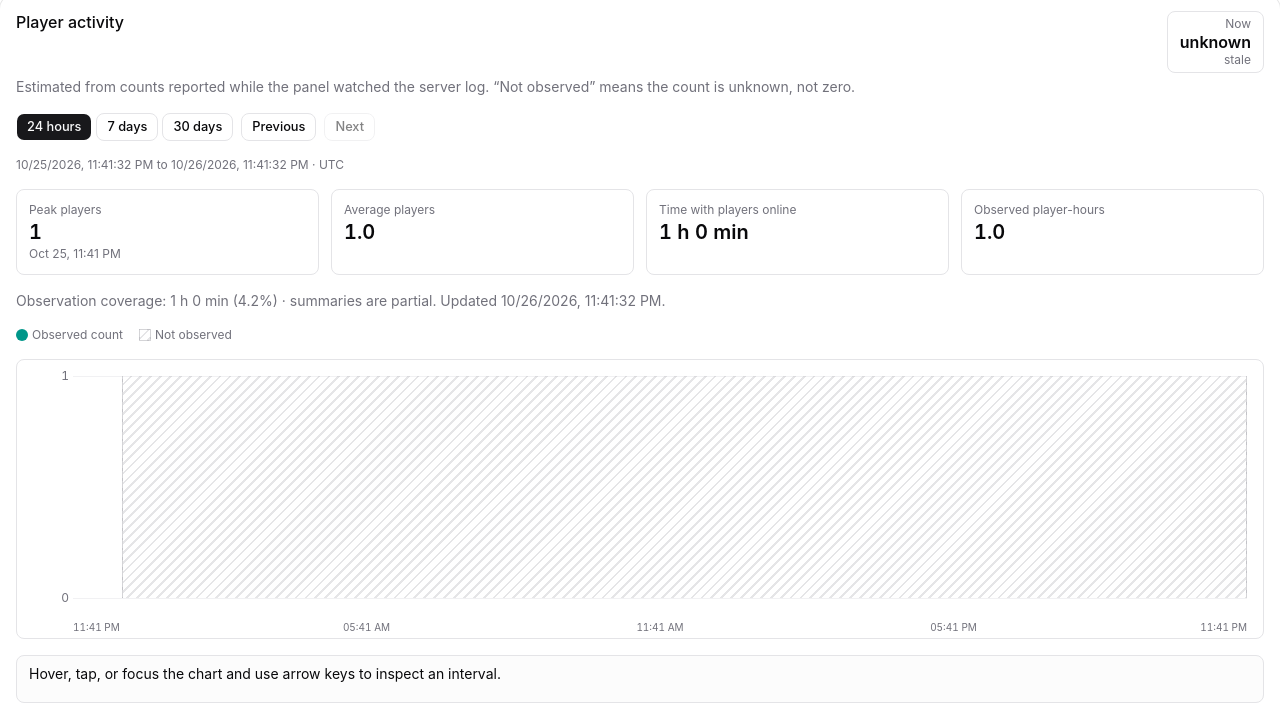
Scenario: exposes gaps and interval details to keyboard and table readers
Press ArrowRight in the button named "Player activity timeline", box [73,376,1247,598]
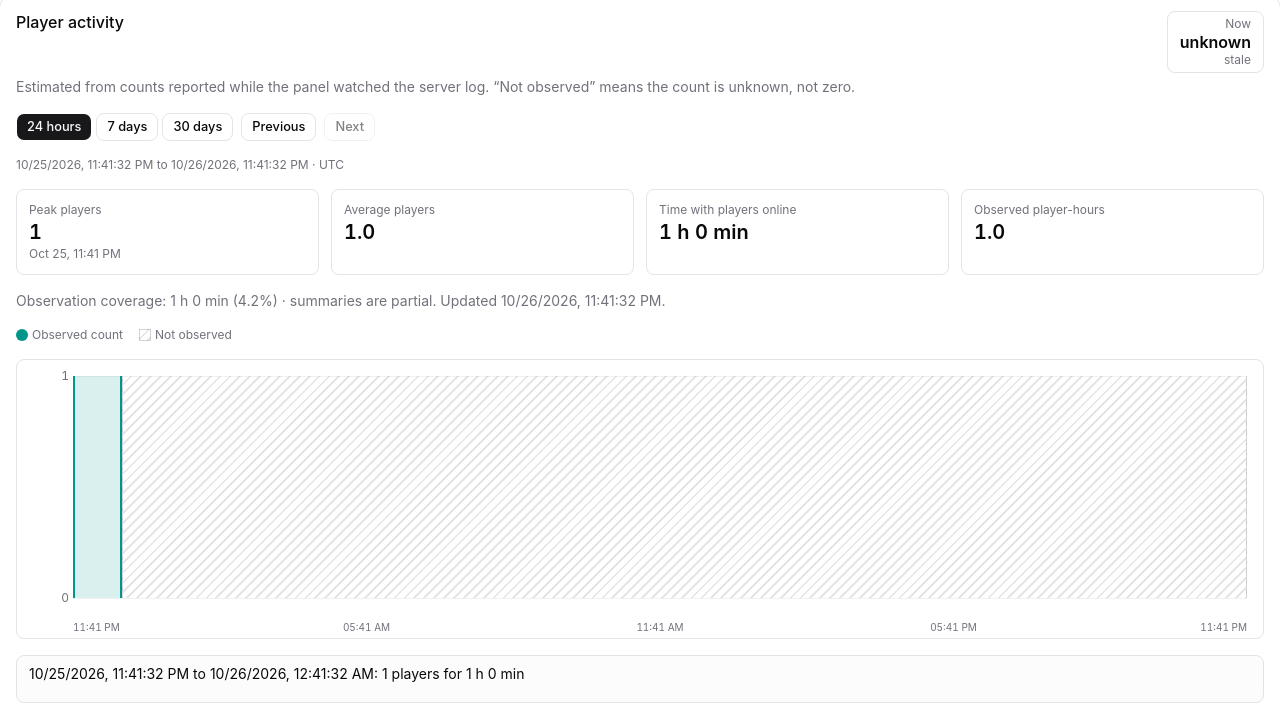
Expected: the text "1 players for 1 h 0 min" is shown, [29,665,524,682]
Press ArrowRight in the button named "Player activity timeline", box [73,376,1247,598]
(page scrolled)
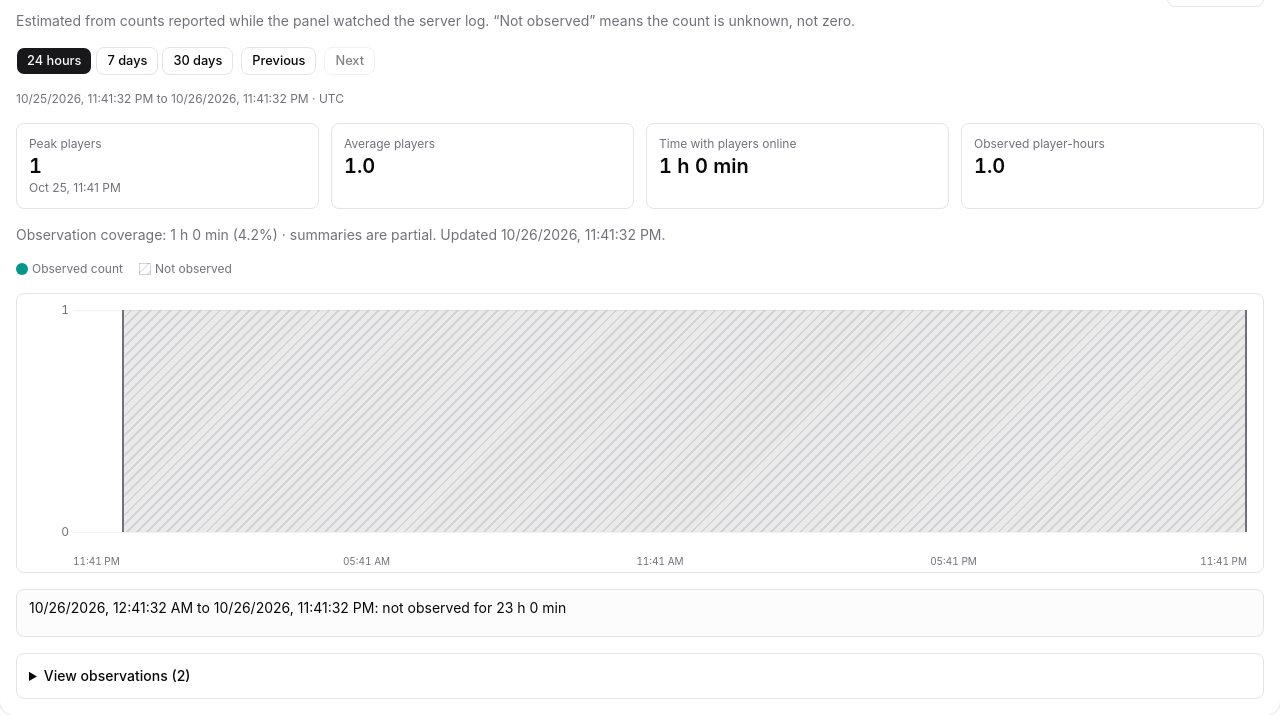
Expected: the text "not observed for" is shown, [29,599,566,616]
Click the heading "View observations (2)" at point(117, 676), box [44,667,190,684]
(page scrolled)
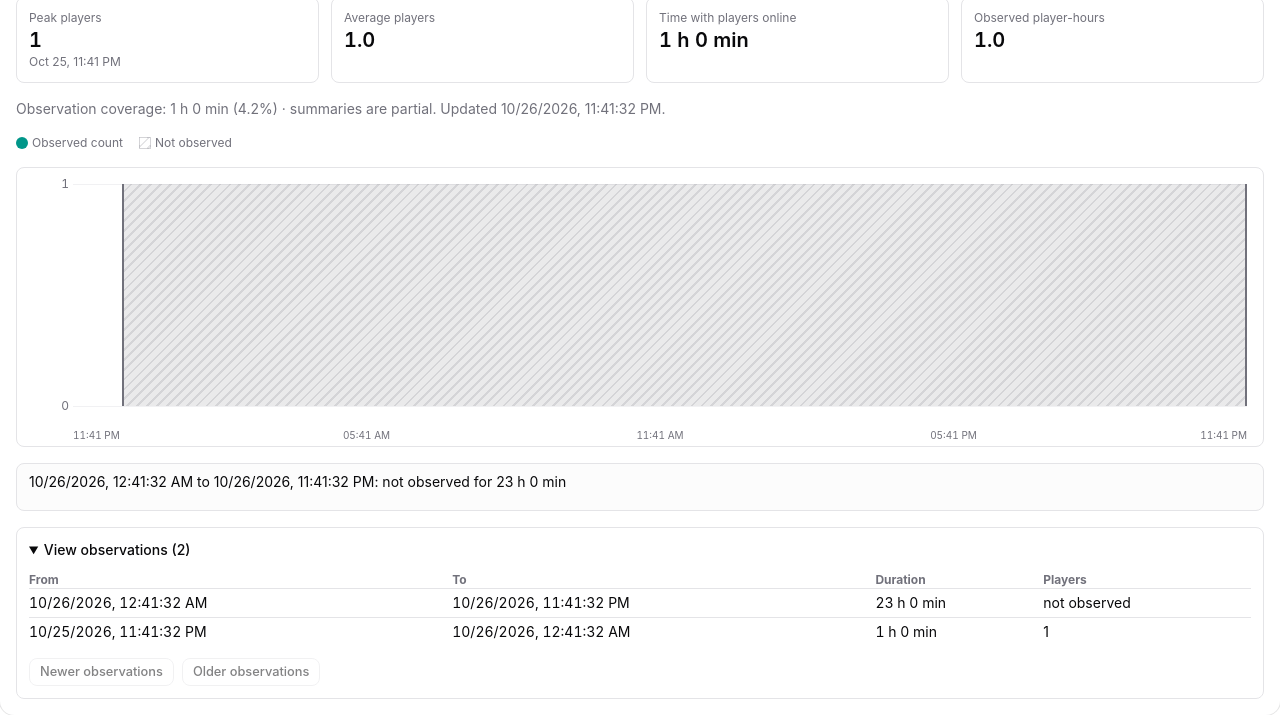
Expected: the table named "Observed player counts, newest first" is shown, [29,572,1251,646]
